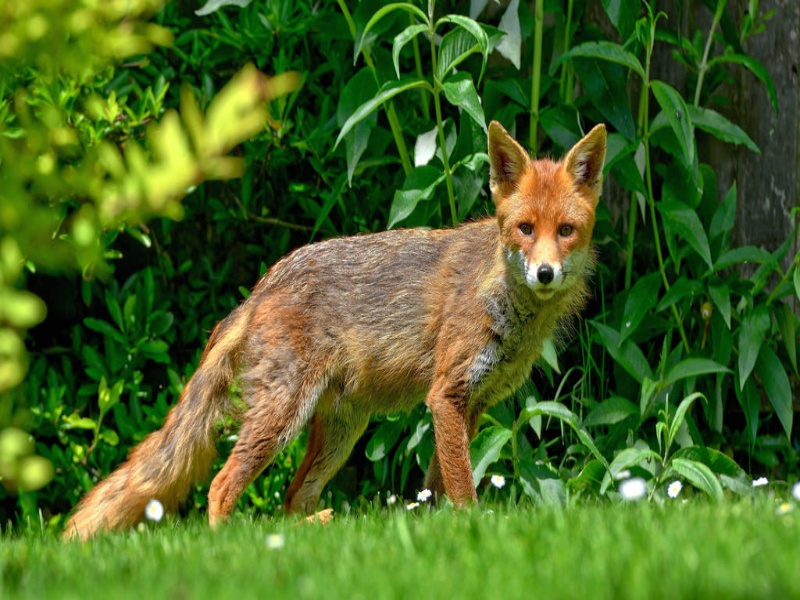fox: (61, 111, 614, 555)
